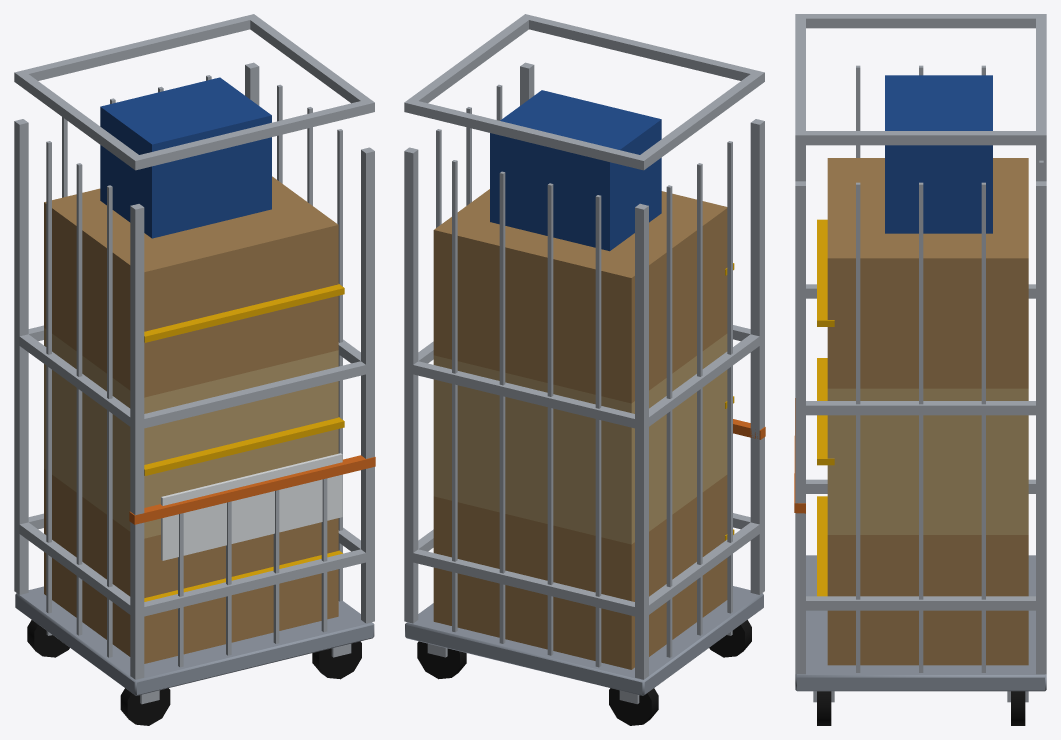
File: pallet_roll_cage_loaded.glb
The picture shows the model from 3 angles, left to right: view 1: azimuth 30°, elevation 25°; view 2: azimuth 150°, elevation 25°; view 3: azimuth 270°, elevation 25°; orthographic projection. The views are drawn at different scales.
Visible parts, largest first — view 1: pallet_roll_cage_loaded; view 2: pallet_roll_cage_loaded; view 3: pallet_roll_cage_loaded.
Part boxes in pixels (x1=…): pallet_roll_cage_loaded: x1=14, y1=14, x2=375, y2=725; pallet_roll_cage_loaded: x1=404, y1=14, x2=765, y2=725; pallet_roll_cage_loaded: x1=794, y1=14, x2=1046, y2=725.
Bounding box in the file's own units: 0.806 × 1.85 × 0.703.
